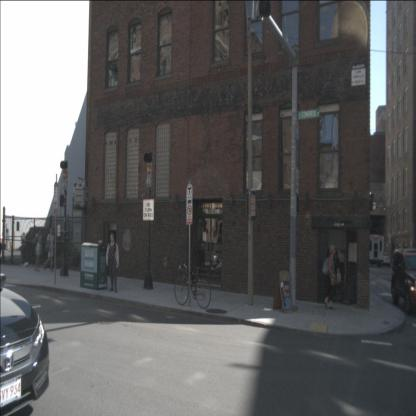human-pedestrian-adult: (322, 245, 337, 310), (106, 233, 119, 293), (44, 226, 56, 272), (33, 228, 43, 272)
vehicle-bicycle: (174, 263, 212, 311)
vehicle-car: (0, 271, 50, 415), (391, 247, 415, 317), (25, 226, 67, 262), (189, 244, 221, 268), (362, 234, 384, 268), (379, 253, 391, 266)
